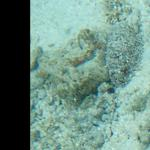dead: (34, 2, 145, 147)
